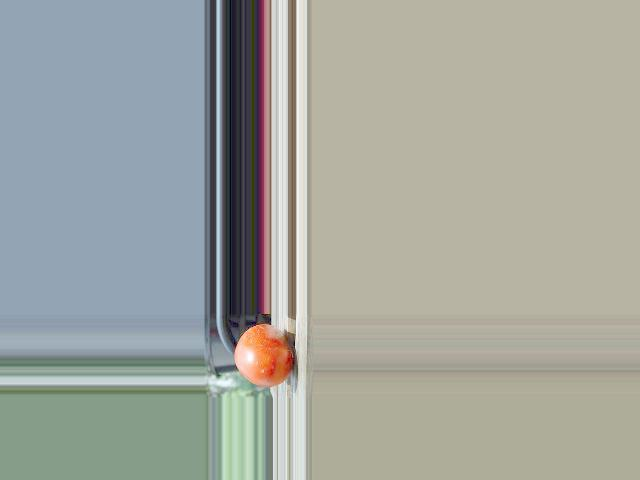tomato: (234, 324, 291, 387)
